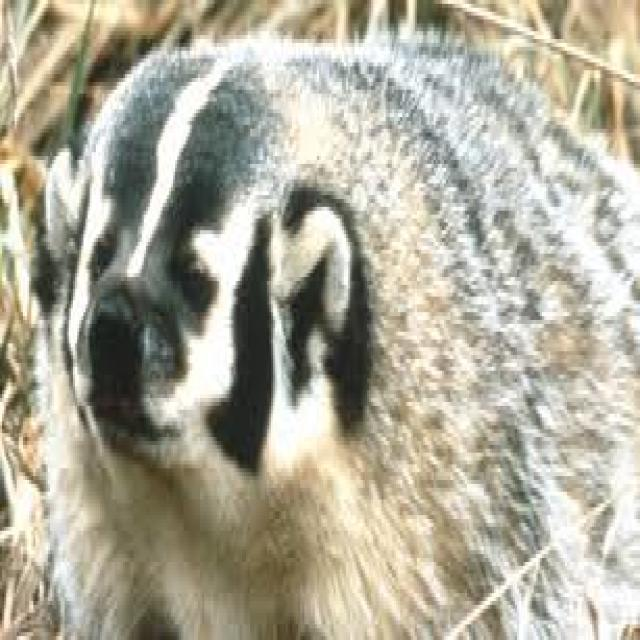Badger: (43, 30, 640, 640)
